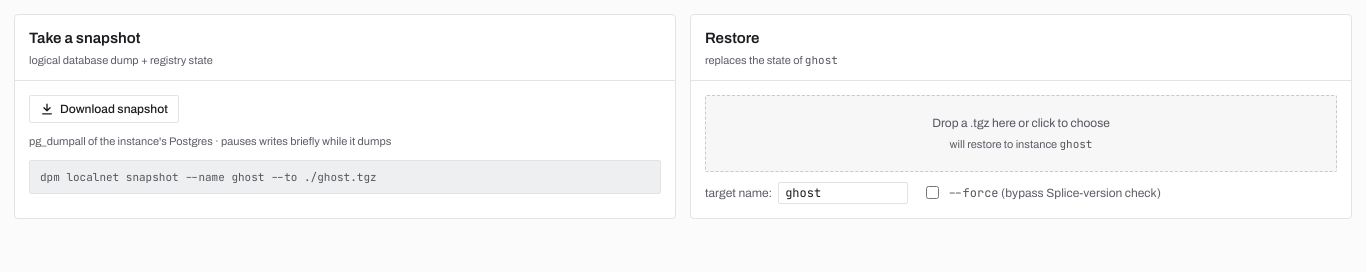
BackupRestore card › surfaces a download-failure banner when the server returns an error instead of a file
Step 1. Click the button "Download snapshot" → (104,109), box [29,95,179,123]
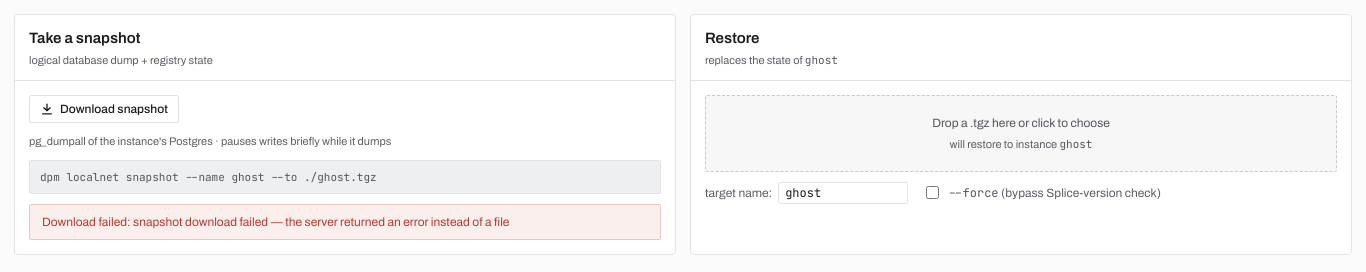
Check: the message shows "Download failed", box [42,215,133,229]
